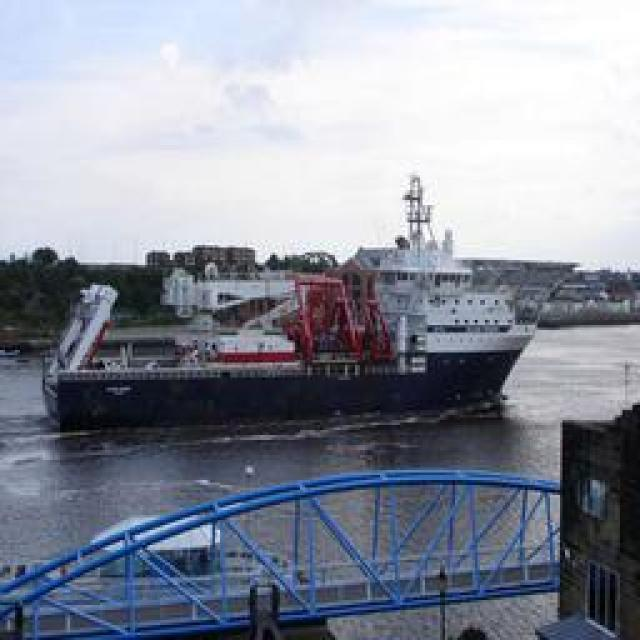ship2: (42, 175, 542, 434)
